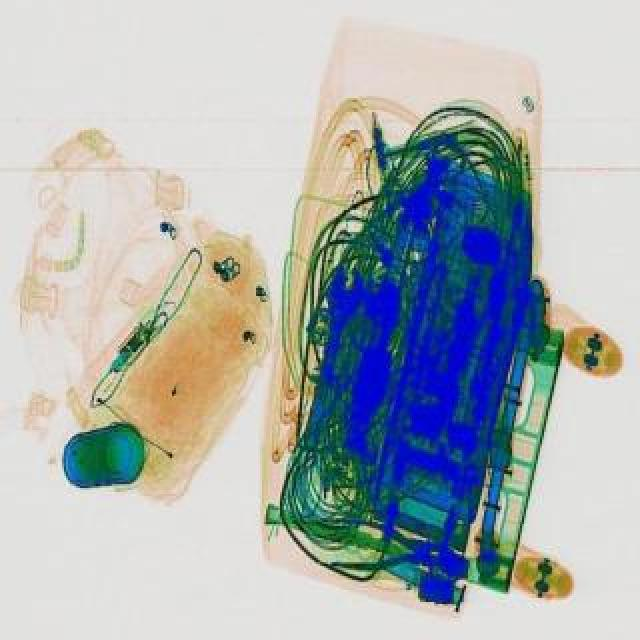scissors: (292, 264, 368, 448)
wrench: (324, 514, 448, 580)
